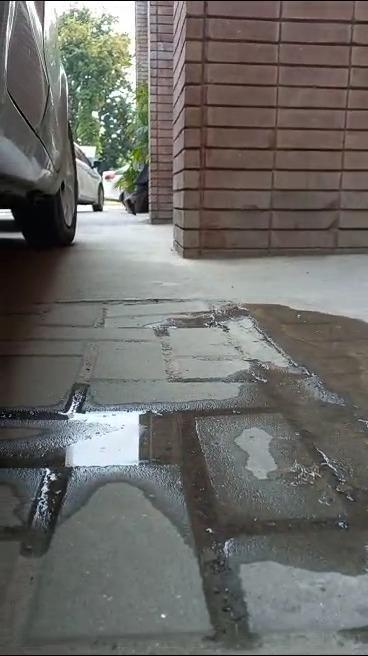water accumulation: (0, 300, 368, 586)
